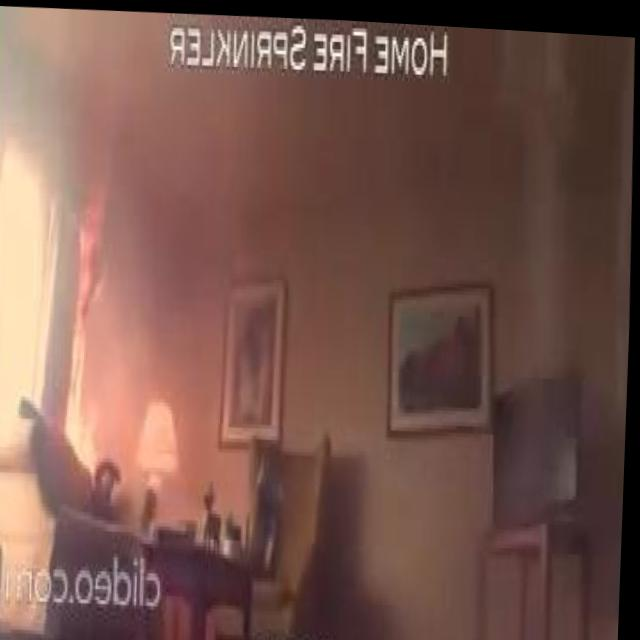fire: (61, 210, 121, 476)
